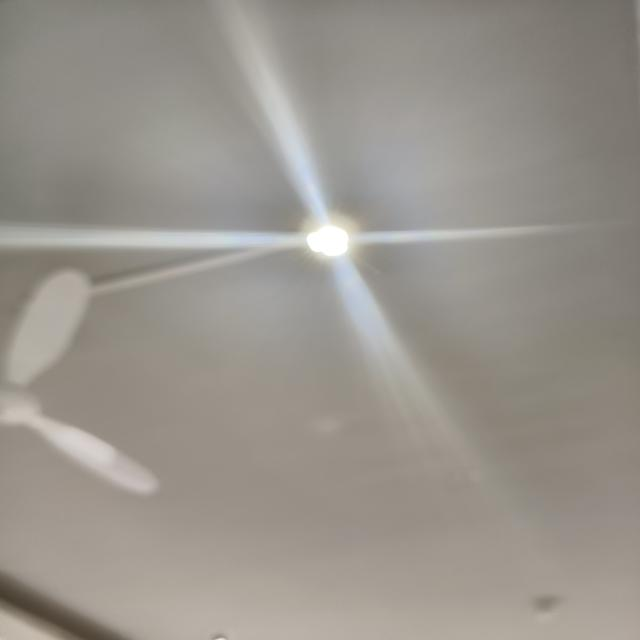light_on: (284, 183, 397, 280)
